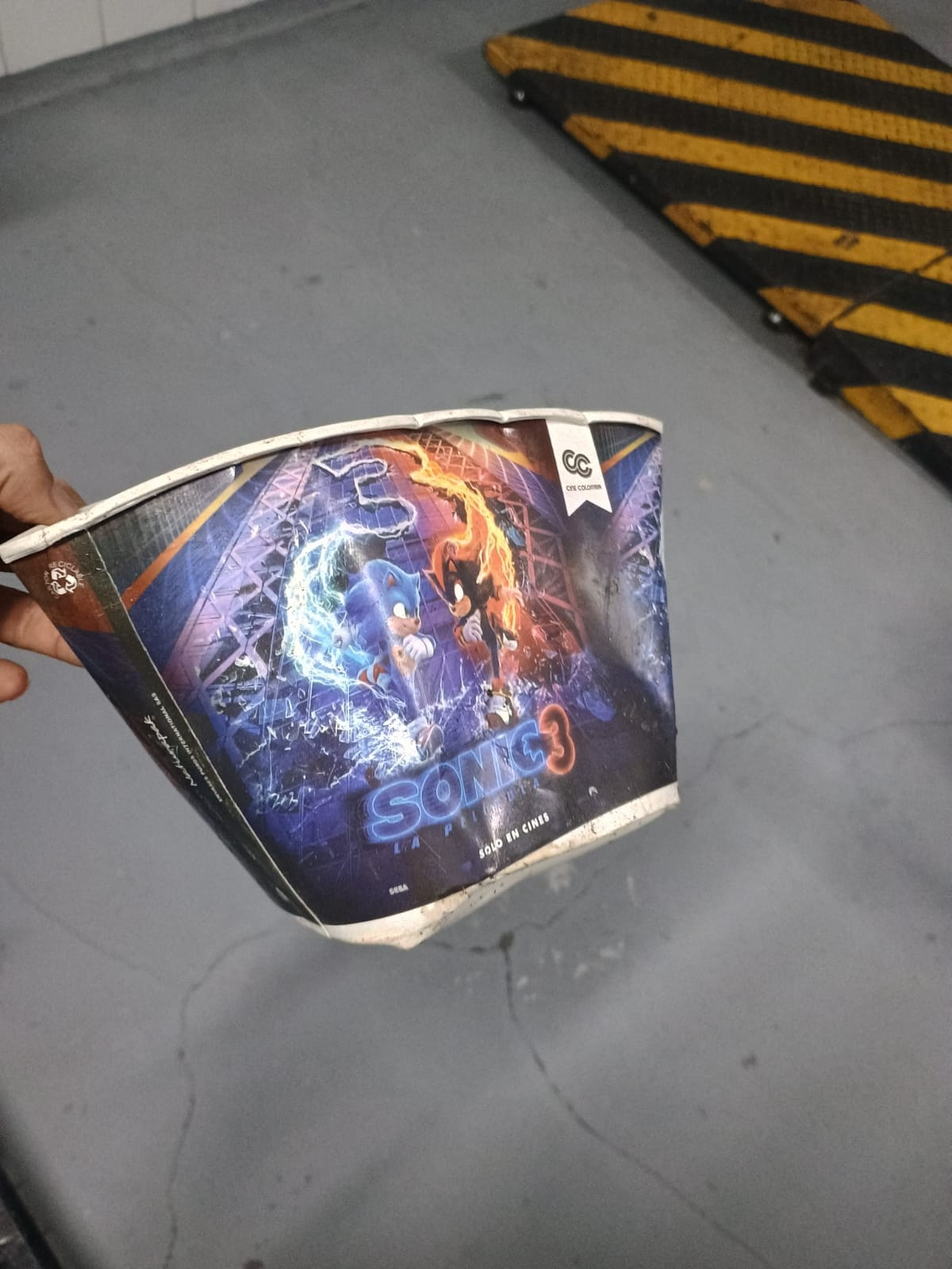Carton: (0, 405, 667, 950)
